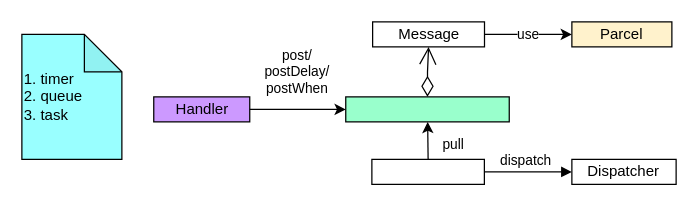
This 699x216 diagram has some shape labels left out. Each missing label, with the box of its shape:
Looper: (371, 158, 484, 184)
MessageQueue: (344, 96, 509, 122)
